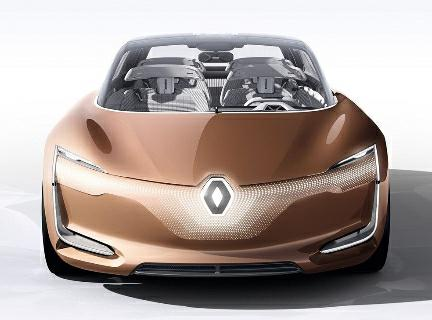雷诺-Symbioz: (36, 28, 399, 293)
